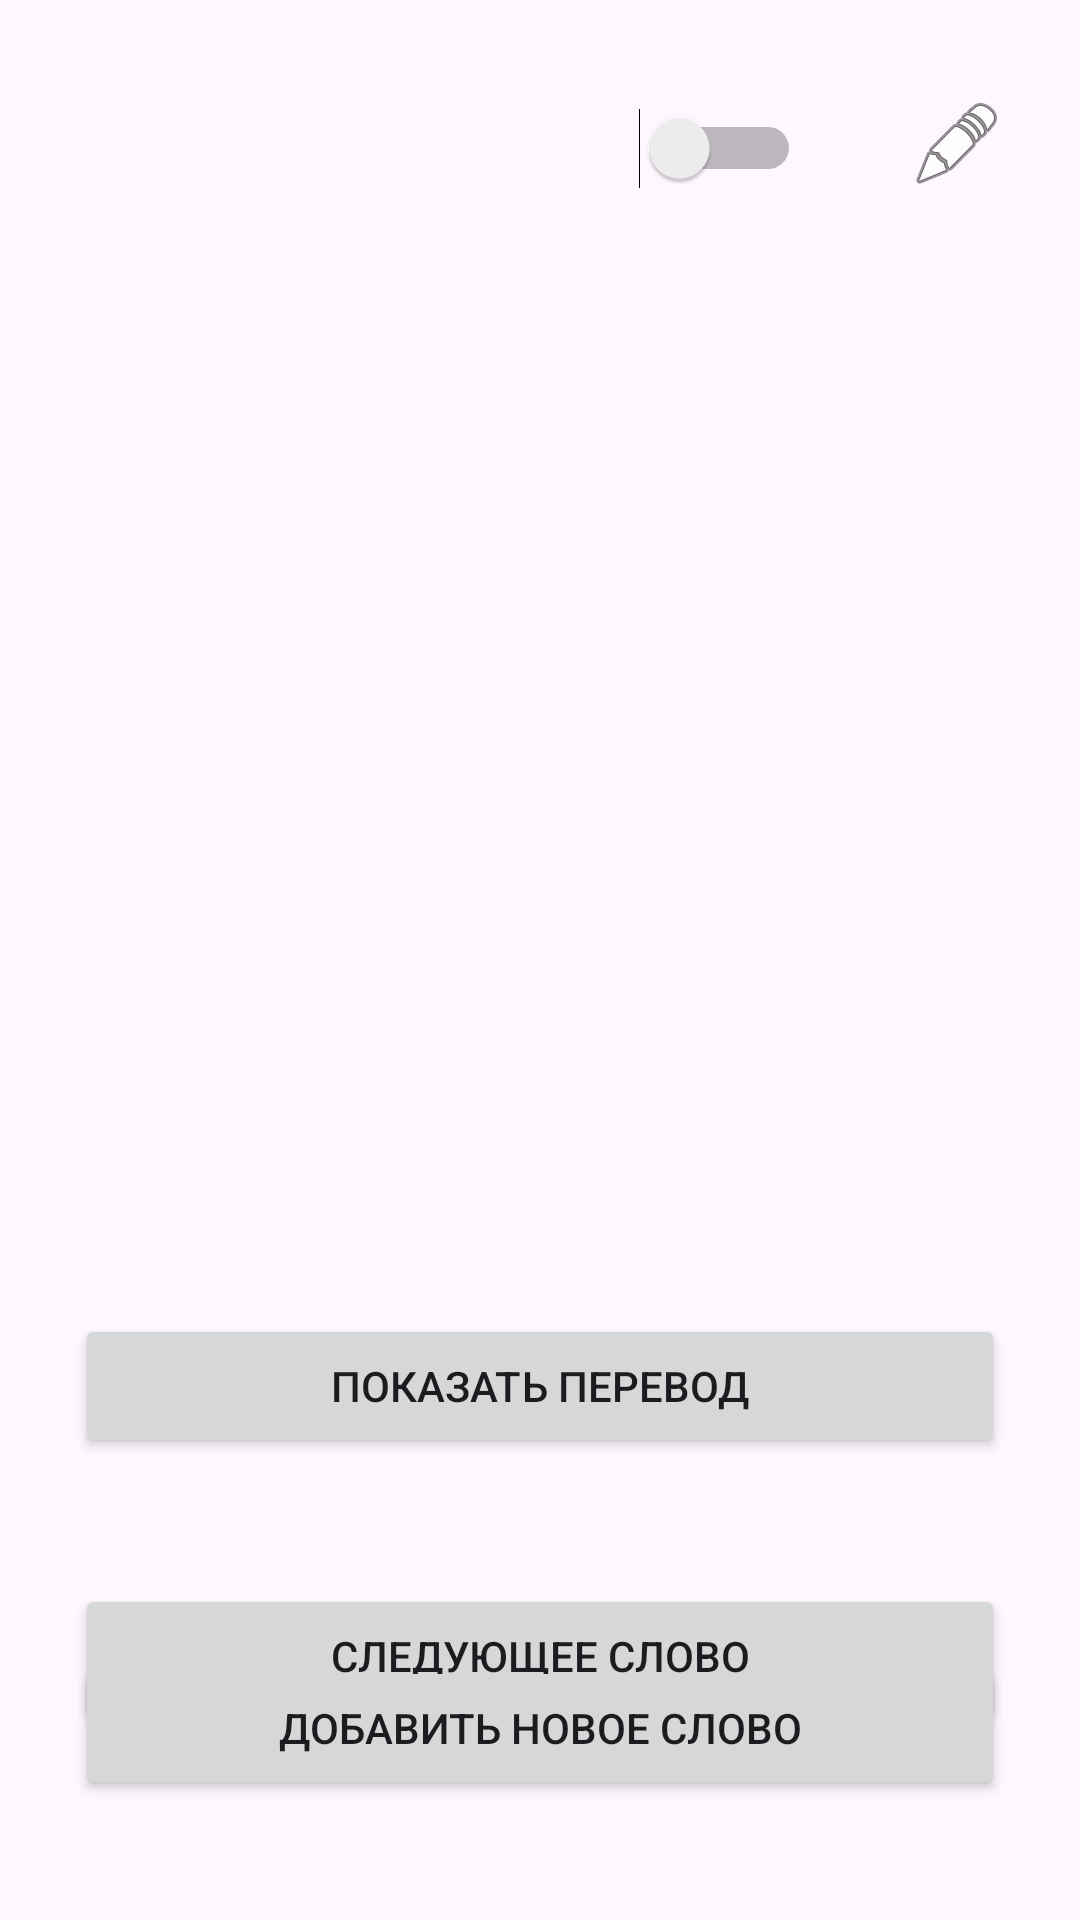

Icons on this 1080×1920 Android screen, each with the point to tap as (x=x, y=y):
edit: (x=956, y=143)
